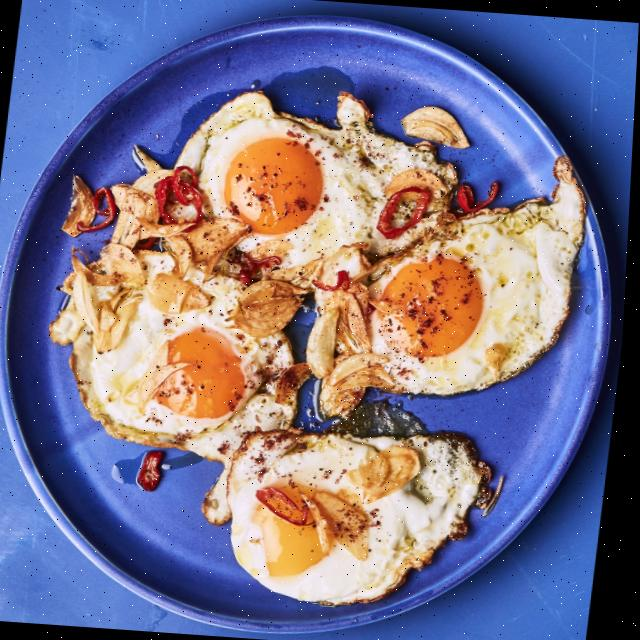Egg: (53, 242, 312, 462), (371, 156, 588, 394), (178, 90, 459, 266), (232, 428, 496, 605)
